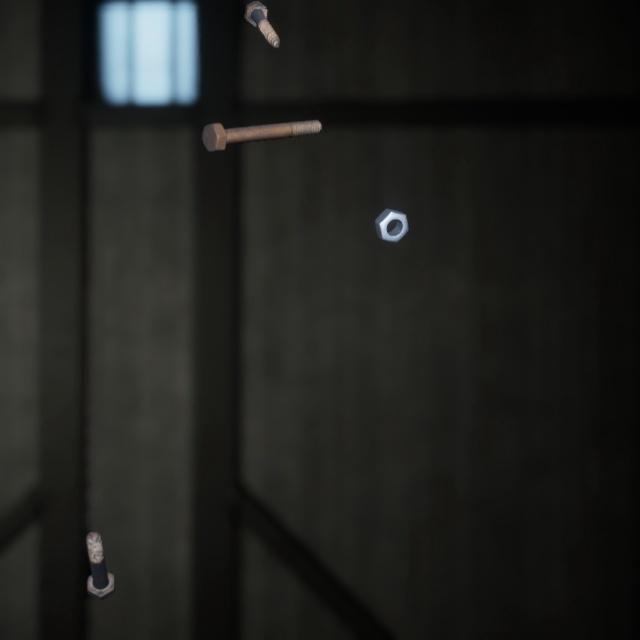bolt: (198, 102, 326, 143), (81, 504, 119, 583), (240, 0, 284, 42)
nut: (370, 189, 413, 232)
